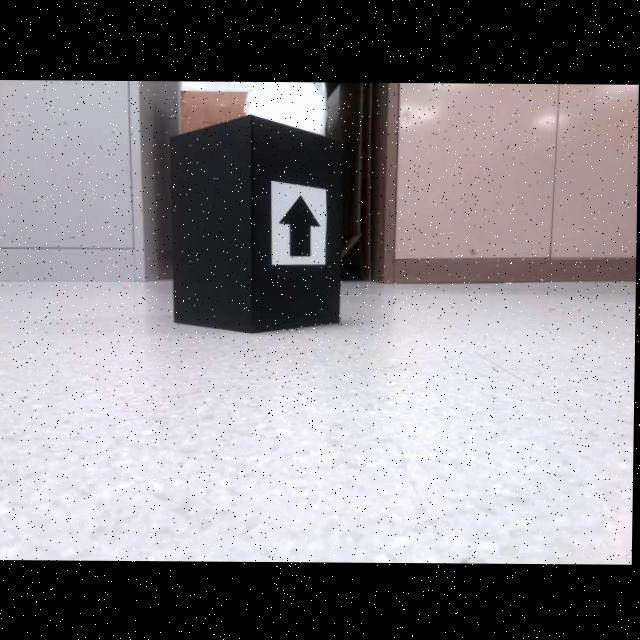UP: (278, 194, 323, 258)
